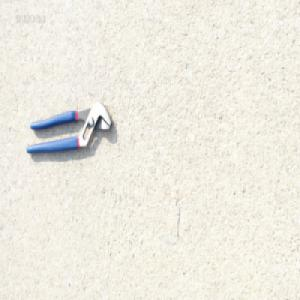Pliers: (25, 101, 113, 155)
